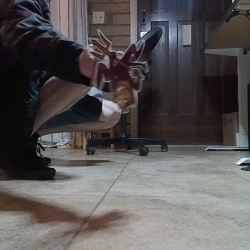sparky: (87, 28, 148, 109)
